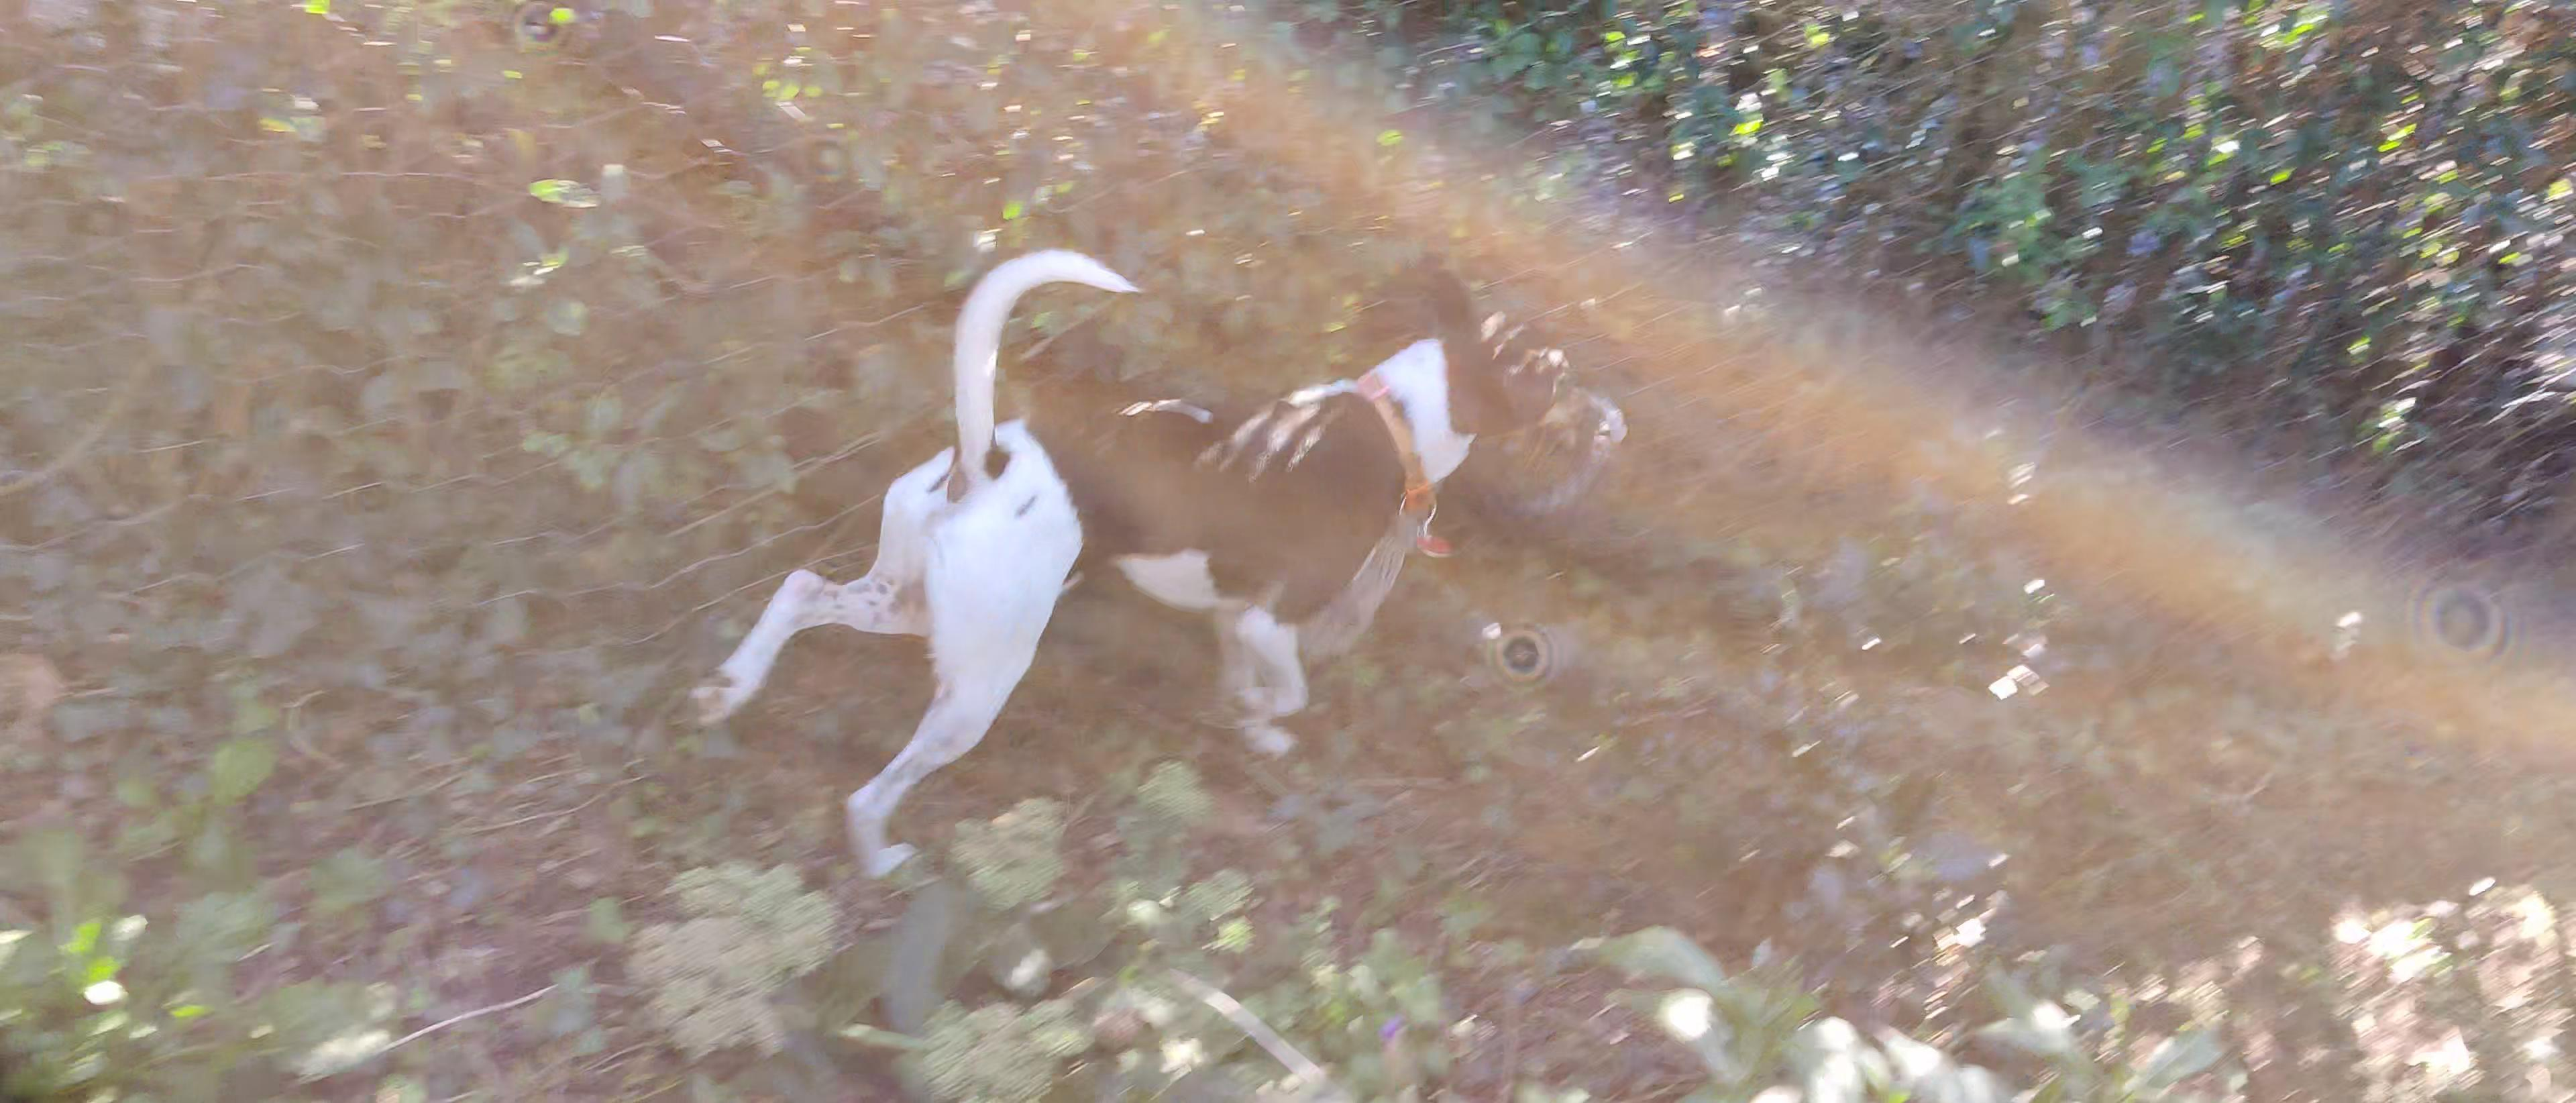Dog: (662, 242, 1597, 884)
